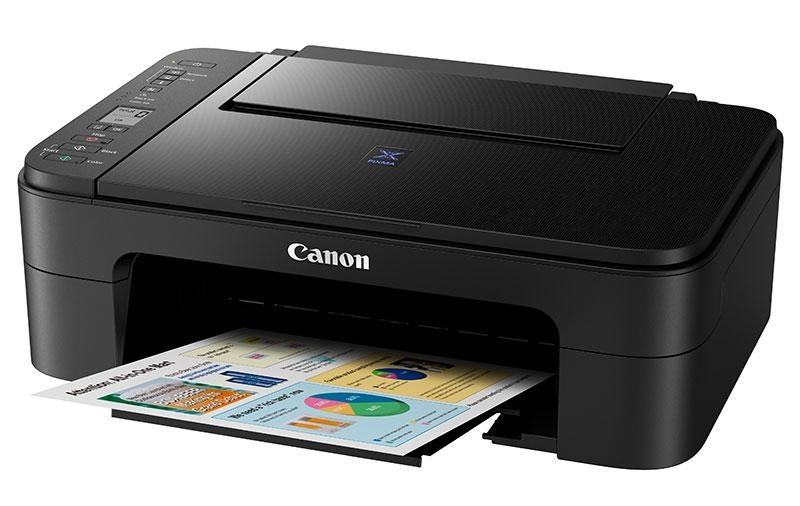Printer: (16, 44, 783, 469)
